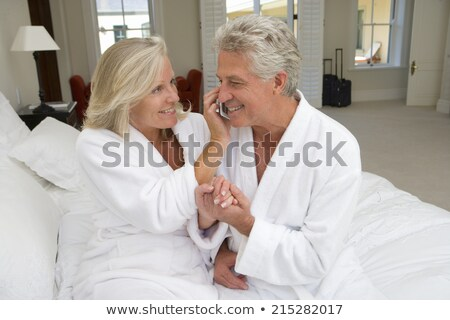phone: (206, 74, 227, 130)
